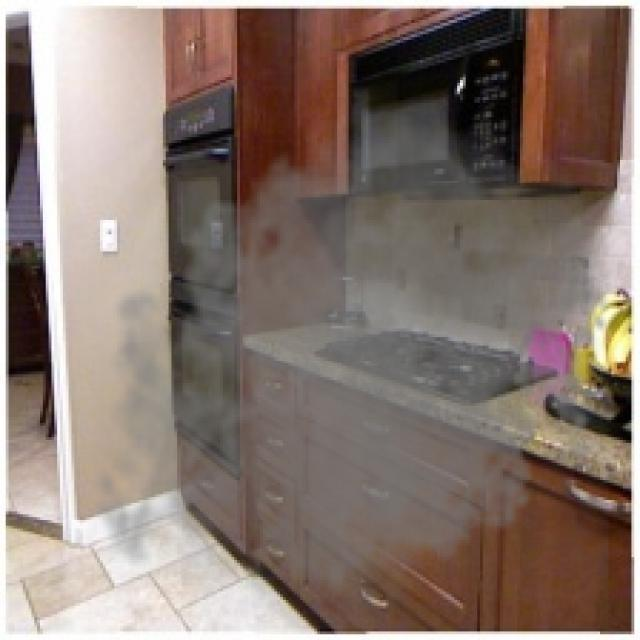Smoke: (80, 77, 620, 629)
